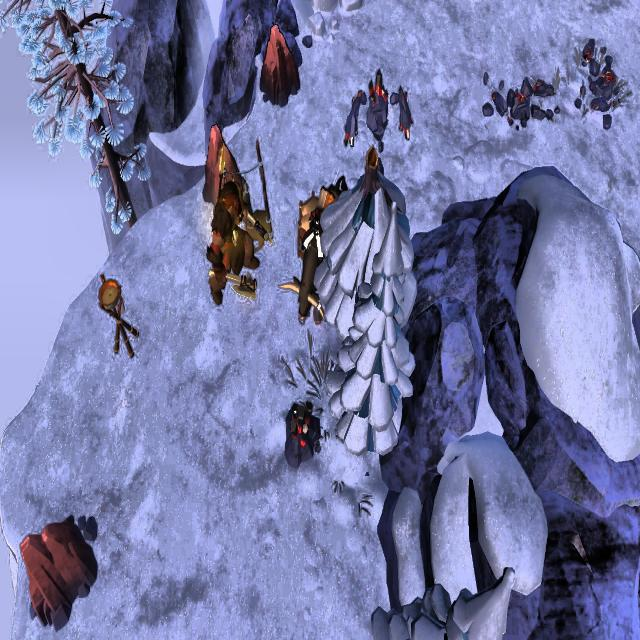enemy_factionKeeper: (204, 184, 266, 310)
rock_t5: (20, 518, 97, 630), (203, 125, 247, 211), (256, 24, 300, 106)
